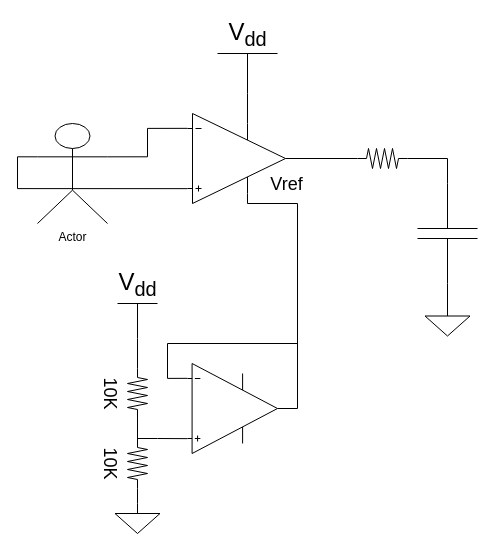
This 495x551 diagram has some shape labels left out. Each missing label, with the centre of its shape:
"AD623" belongs at point (236, 158).
"TL072" belongs at point (232, 408).
